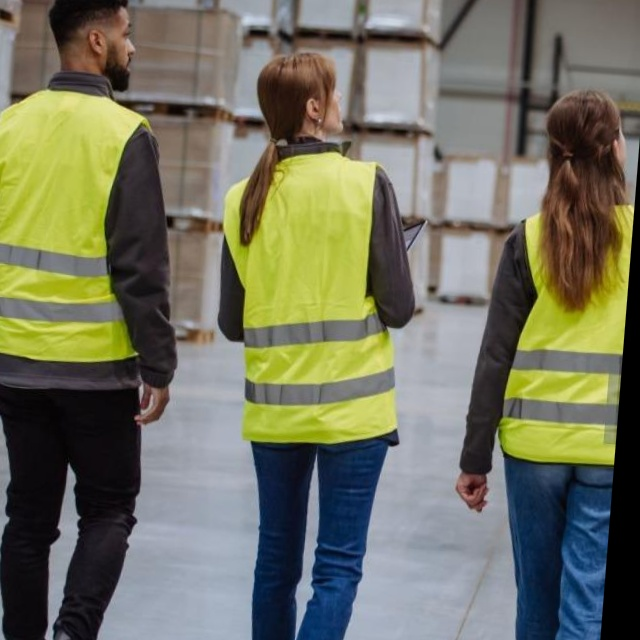Con_Chaleco: (205, 145, 426, 450), (0, 80, 175, 372), (500, 189, 635, 472)
Sin_Casco_Mascarrilla: (252, 47, 353, 139), (42, 0, 138, 86)
